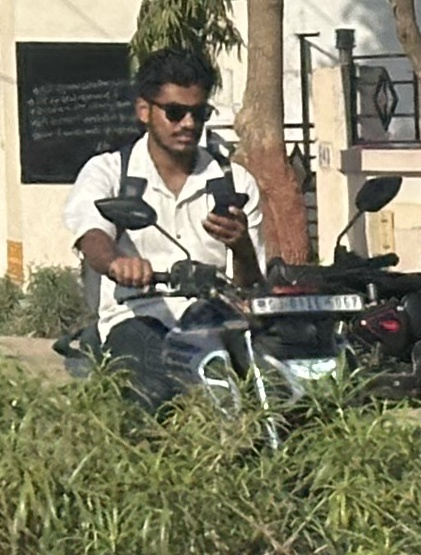BikeWithRider: (122, 41, 226, 160)
NoHelmet: (41, 38, 412, 481)
